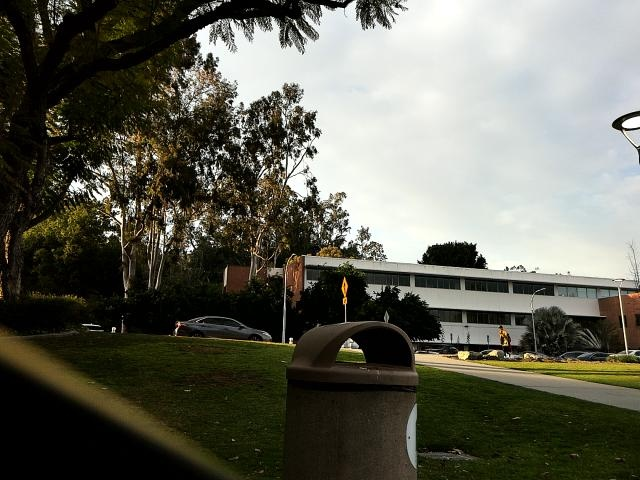trashcan: (275, 311, 418, 480)
